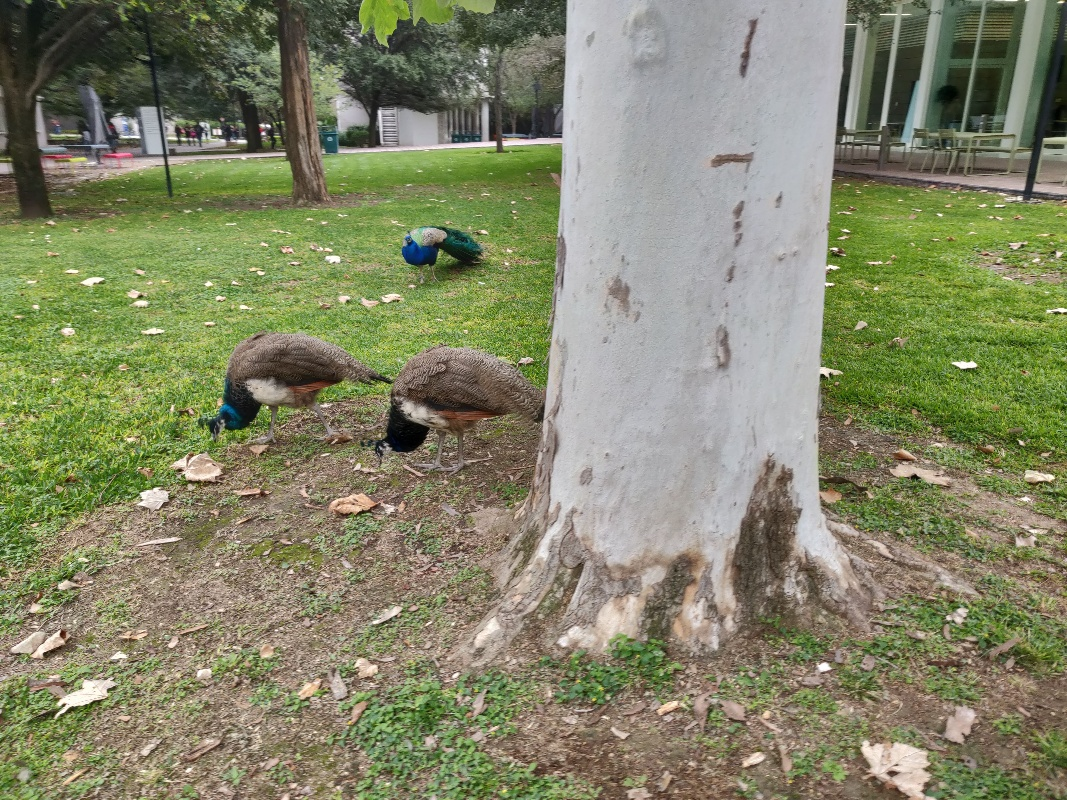pavoreal: (373, 349, 540, 468), (202, 332, 355, 449), (398, 223, 486, 271)
